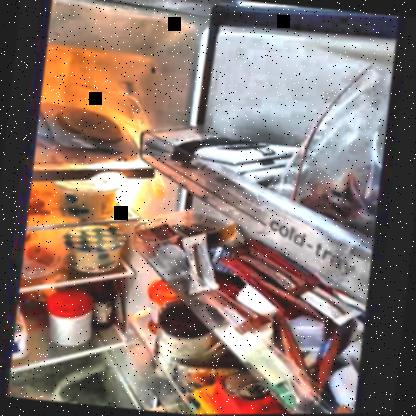chocolate: (155, 130, 291, 180)
salami: (53, 104, 124, 144)
tomato: (25, 242, 58, 268)
yoghurt: (63, 226, 130, 274), (49, 179, 120, 220)
